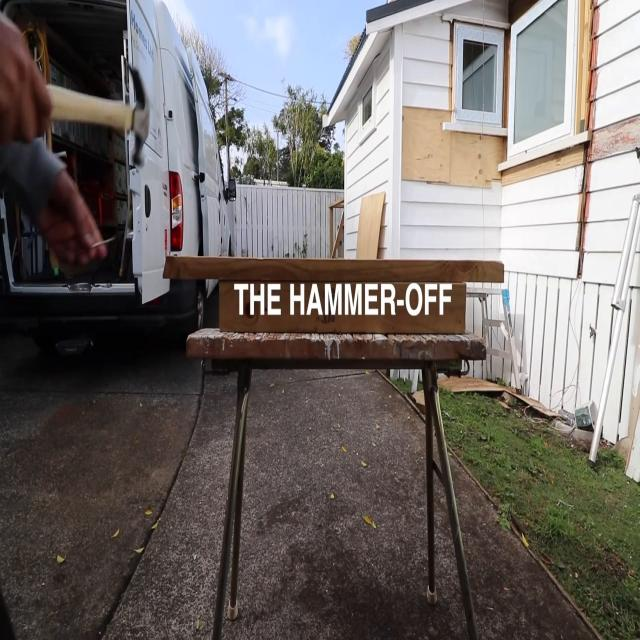hammer: (27, 64, 150, 168)
